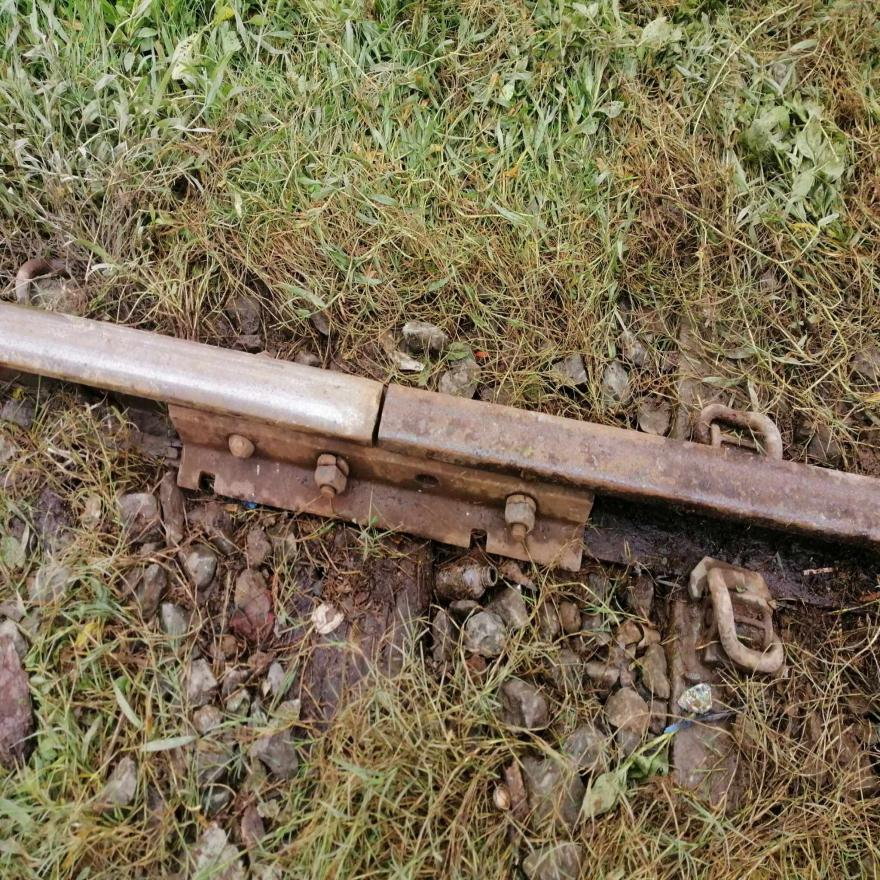railway-gap: (344, 367, 416, 463)
